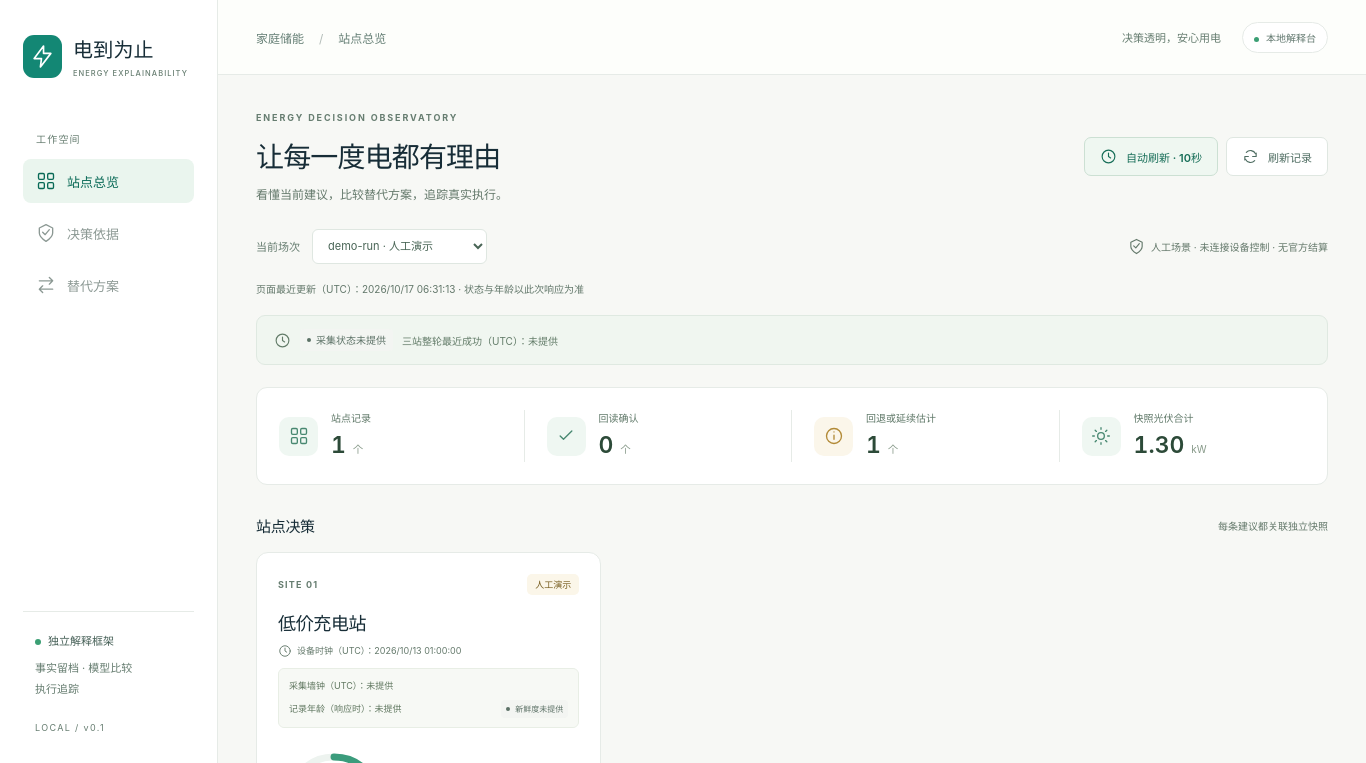
Test: 储能解释用户流程 › 刷新失败显示错误并保留上次成功的场次和记录
Expected: the heading "低价充电站" is shown, [278, 613, 366, 634]
Click the button "刷新记录".
click(1277, 157)  # box [1226, 138, 1328, 176]
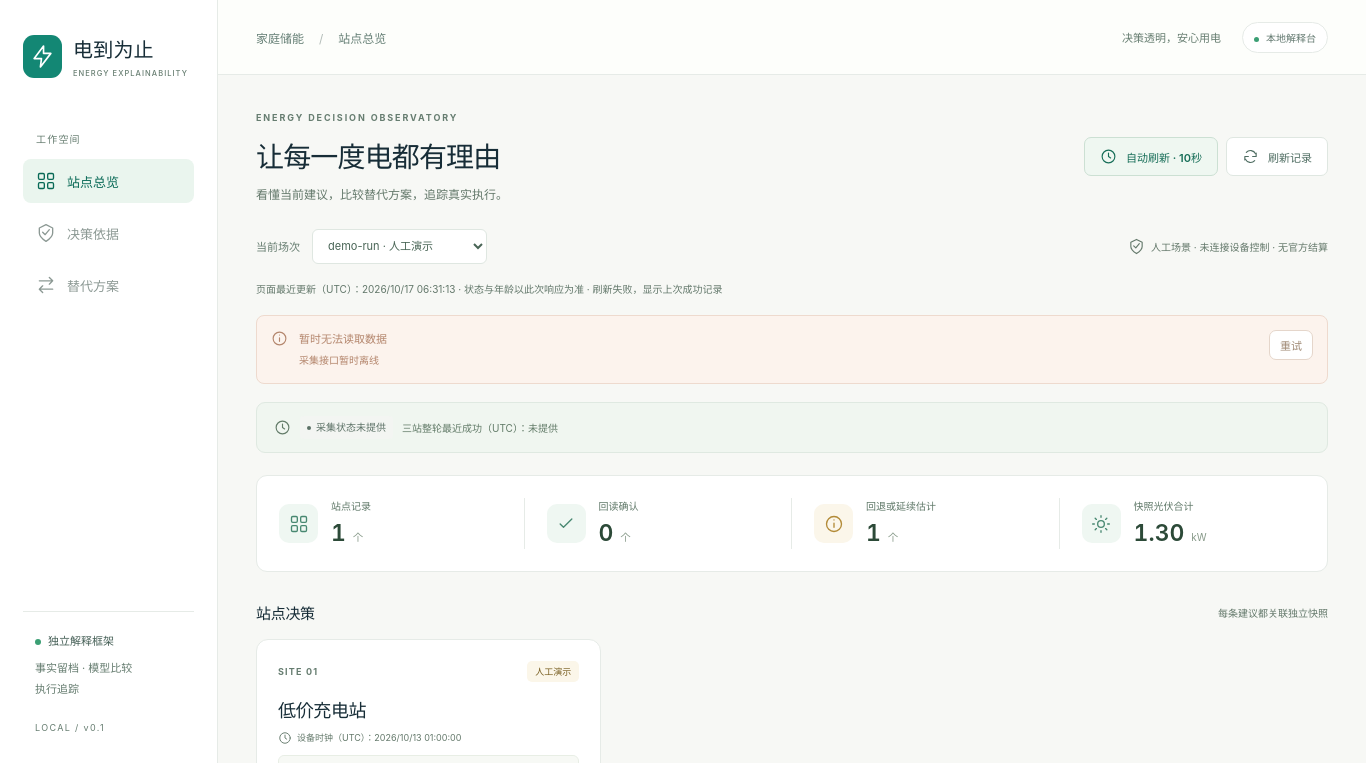
Expected: the heading "低价充电站" is shown, [278, 700, 366, 721]
Expected: the message shows "采集接口暂时离线", [299, 354, 379, 366]
Expected: the text "刷新失败，显示上次成功记录" is shown, [584, 283, 722, 295]
